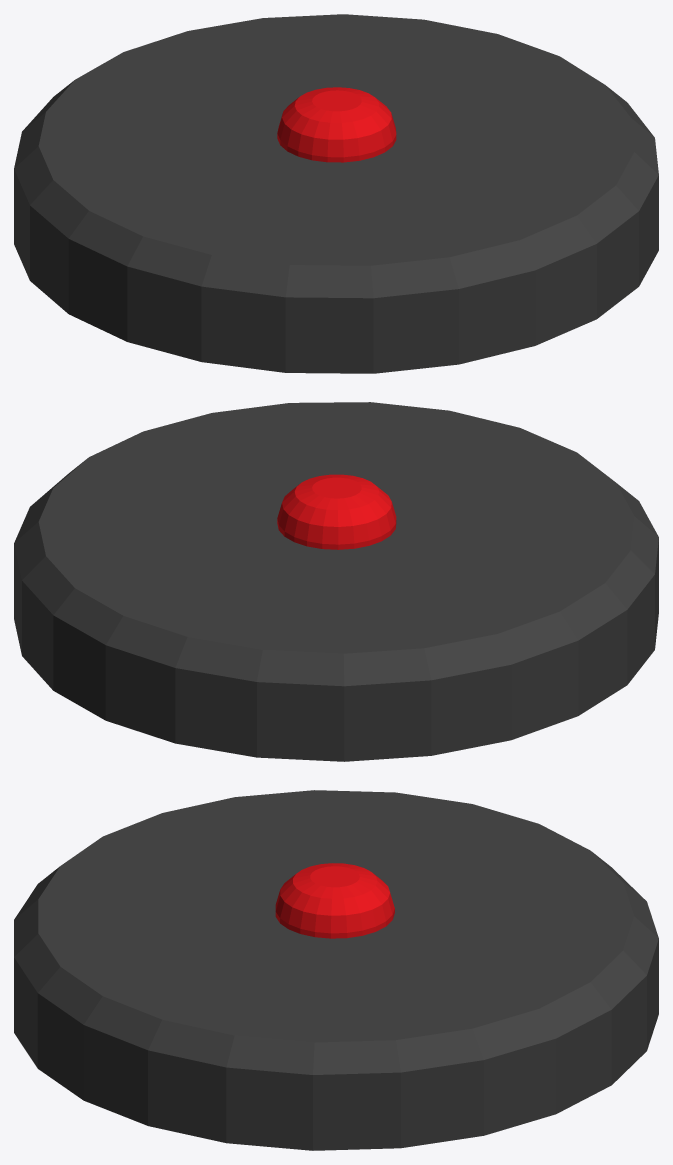
The model's file is Landmine.fbx.
The picture shows the model from 3 angles, top to bottom: view 1: azimuth 30°, elevation 25°; view 2: azimuth 150°, elevation 25°; view 3: azimuth 270°, elevation 25°; orthographic projection.
Parts seen in each view (by area): view 1: Cylinder, Cylinder.001; view 2: Cylinder, Cylinder.001; view 3: Cylinder, Cylinder.001.
Boxes of the visible parts, left/top/right/bottom form: Cylinder: left=14, top=14, right=658, bottom=373; Cylinder.001: left=277, top=87, right=396, bottom=162; Cylinder: left=14, top=402, right=658, bottom=761; Cylinder.001: left=277, top=474, right=396, bottom=549; Cylinder: left=14, top=790, right=658, bottom=1150; Cylinder.001: left=275, top=863, right=394, bottom=938.
Size of the model in its own units: 150 by 35.09 by 149.
